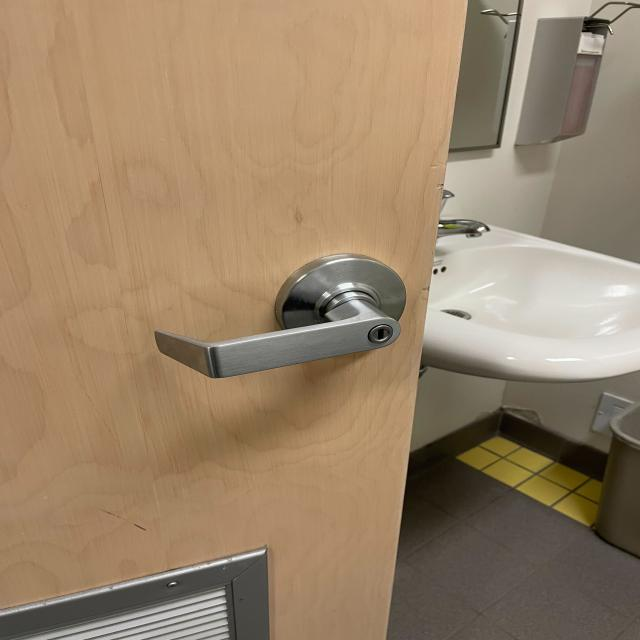door-handle: (155, 254, 407, 378)
